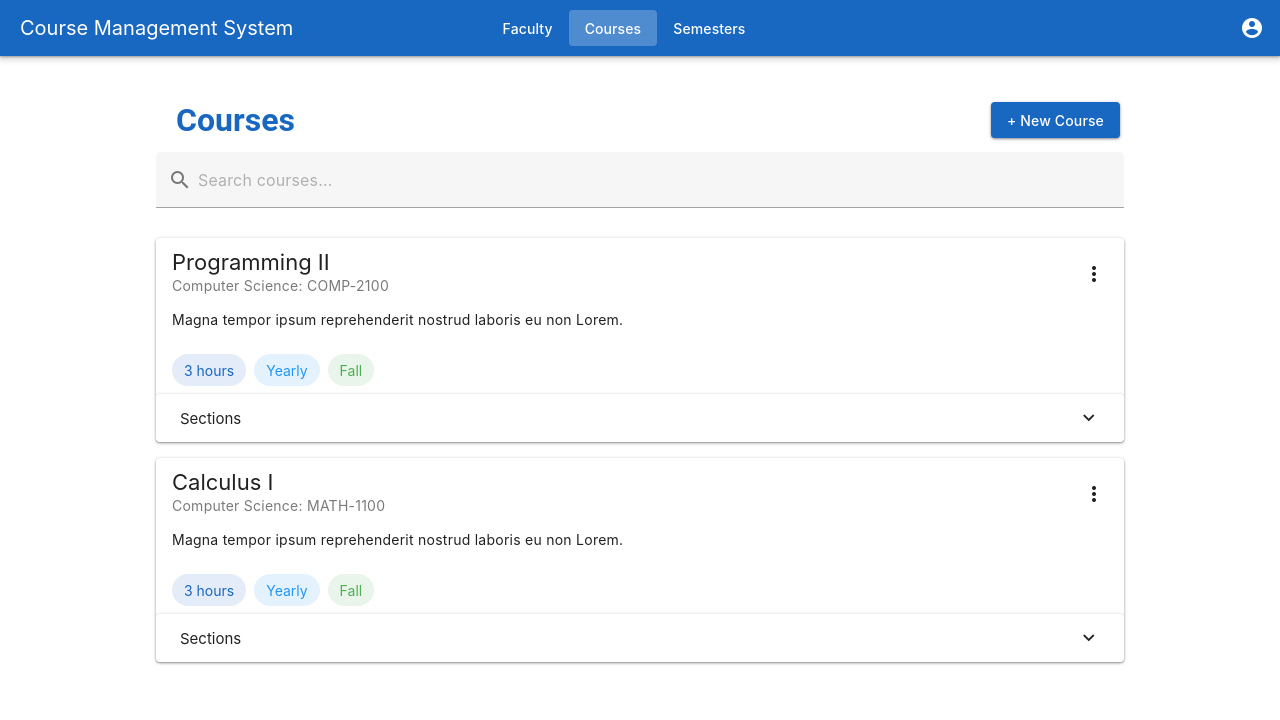
Test: Feature 3 — Course Management UI › US-3.4 — Manage course cards › Course cards show edit and delete actions for admins
Click the button named "Course actions" in the row of "Computer Science: COMP-2100" at (1094, 274), box [1080,260,1108,288]
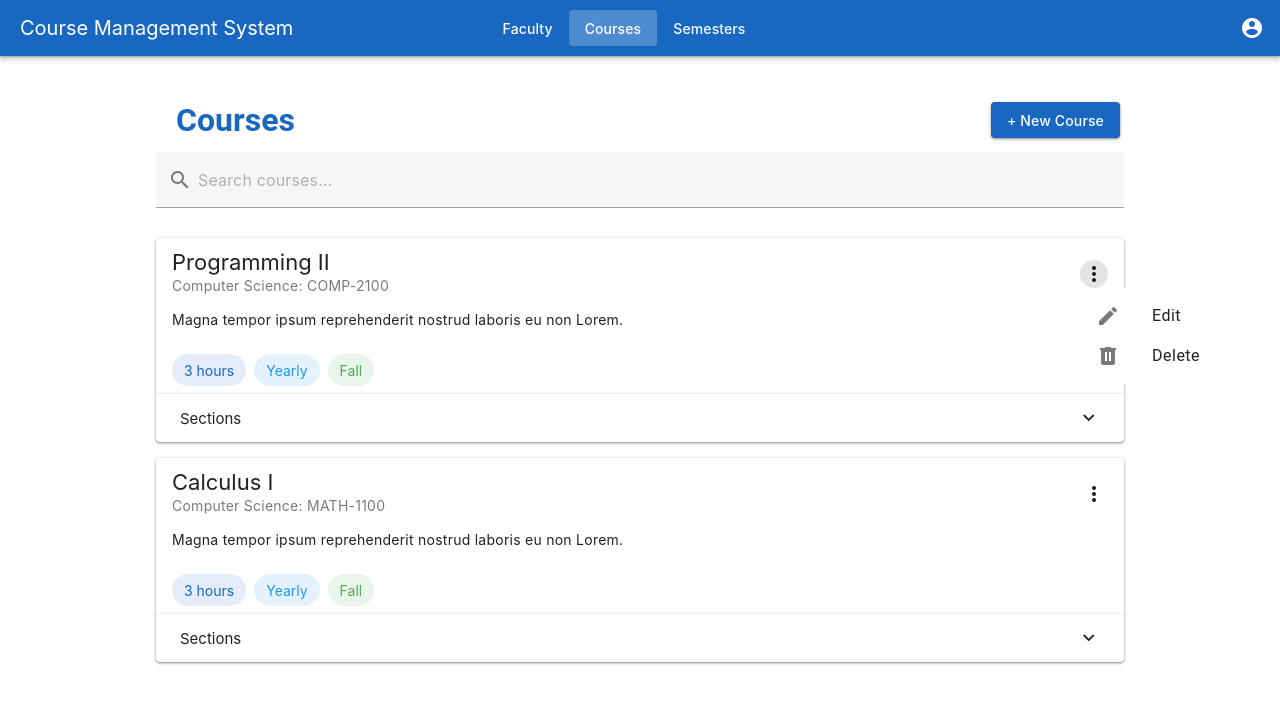
expect the list item "Edit" is shown: met, box [1096,304,1181,328]
expect the list item "Delete" is shown: met, box [1096,344,1200,368]
